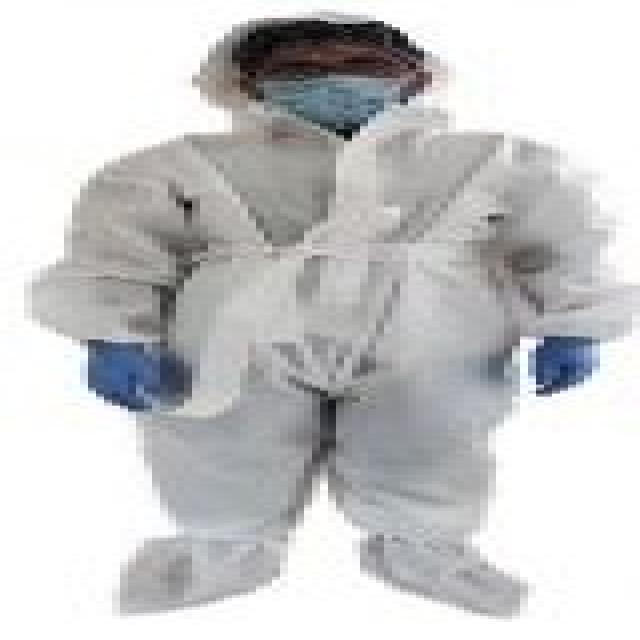Coverall: (0, 3, 616, 640)
Gloves: (32, 318, 240, 424), (464, 298, 640, 397)
Mask: (224, 69, 488, 135)
